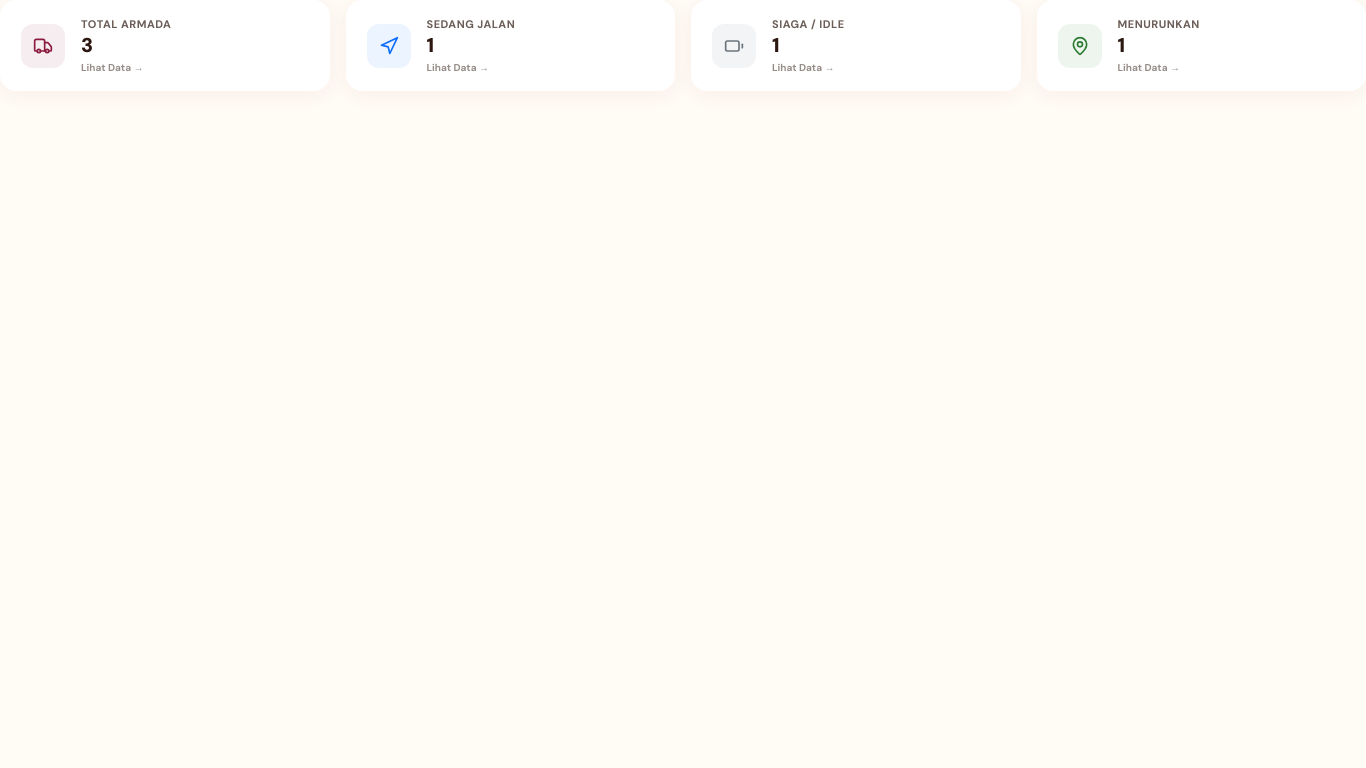
Test case: VehicleStats Component › opens detailed vehicle modal when clicking Menurunkan card
This screenshot has width=1366, height=768.
Note: Click on "Menurunkan" card
Click the button "Menurunkan 1 Lihat Data →". click: (1080, 46)
box: [1036,0,1365,91]
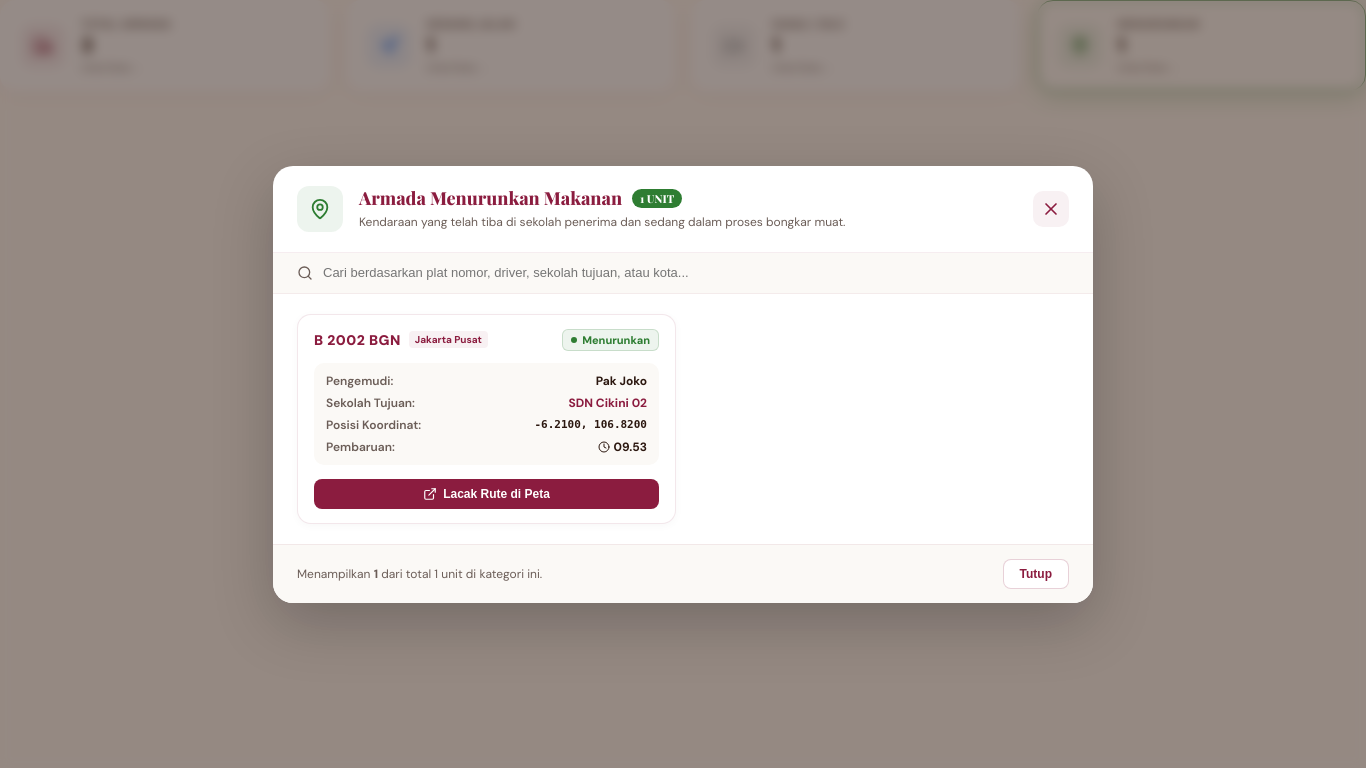
expect the heading "Armada Menurunkan Makanan 1 Unit" is shown: met, box [359,186,682,210]
expect the text "B 2002 BGN" is shown: met, box [314,330,401,348]
expect the text "Pak Joko" is shown: met, box [596,372,647,388]
